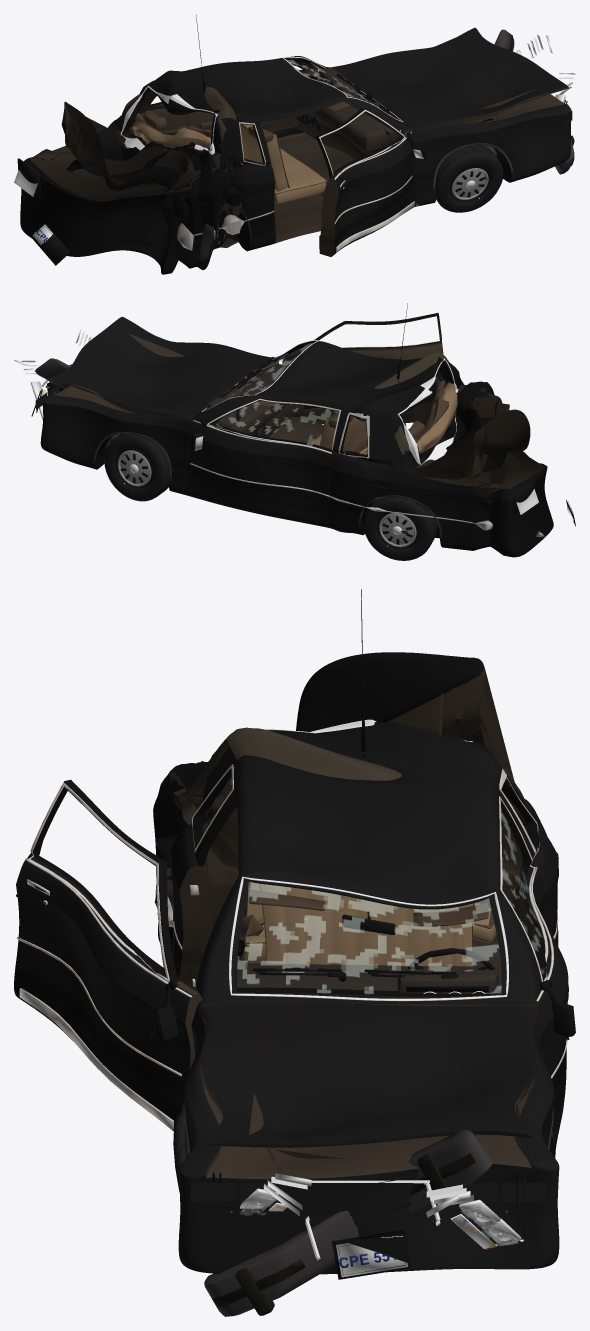
File: coupe84_rear_corner_R_d3_lod1.glb
The picture shows the model from 3 angles, top to bottom: view 1: azimuth 30°, elevation 25°; view 2: azimuth 150°, elevation 25°; view 3: azimuth 270°, elevation 25°; orthographic projection. The views are drawn at different scales.
Parts seen in each view (by area): view 1: Body, Hood, Interior, Door_FR, Trunk, Wheel_FR_mesh, Trim, Ends, Glass, Trim_FR, Door_FL, Bumper_F (+1 smaller); view 2: Body, Hood, Door_FL, Trunk, Interior, Wheel_RL_mesh, Wheel_FL_mesh, Door_FR, Trim, Glass, Trim_FL, Ends (+2 smaller); view 3: Body, Hood, Door_FR, Interior, Trunk, Ends, Bumper_F, Glass, Trim_FR, Door_FL, Trim, Trim_FL.
Part boxes in pixels (<box>): Body: <box>20,56,571,274</box>; Hood: <box>330,27,568,133</box>; Interior: <box>132,67,399,203</box>; Door_FR: <box>315,108,416,256</box>; Trunk: <box>61,101,222,191</box>; Wheel_FR_mesh: <box>435,145,503,212</box>; Trim: <box>172,14,513,261</box>; Ends: <box>14,35,575,265</box>; Glass: <box>120,56,403,164</box>; Trim_FR: <box>319,109,426,252</box>; Door_FL: <box>187,63,319,138</box>; Bumper_F: <box>494,29,574,174</box>; Body: <box>40,341,553,557</box>; Hood: <box>47,316,272,422</box>; Door_FL: <box>183,398,341,527</box>; Trunk: <box>411,381,530,479</box>; Interior: <box>207,363,457,454</box>; Wheel_RL_mesh: <box>364,497,437,560</box>; Wheel_FL_mesh: <box>104,434,169,501</box>; Door_FR: <box>282,313,443,424</box>; Trim: <box>93,303,493,538</box>; Glass: <box>201,340,458,465</box>; Trim_FL: <box>190,398,341,496</box>; Ends: <box>14,329,575,526</box>; Body: <box>153,721,559,1274</box>; Hood: <box>199,1003,538,1147</box>; Door_FR: <box>14,779,202,1131</box>; Interior: <box>236,881,501,993</box>; Trunk: <box>168,652,514,793</box>; Ends: <box>191,1172,546,1279</box>; Bumper_F: <box>204,1129,492,1316</box>; Glass: <box>192,719,534,1001</box>; Trim_FR: <box>16,783,195,1130</box>; Door_FL: <box>498,795,568,1142</box>; Trim: <box>154,589,558,1154</box>; Trim_FL: <box>499,796,575,1078</box>.
Bounding box in the file's own units: 5.47 × 2.17 × 2.53.
33 materials, 5 textured.
